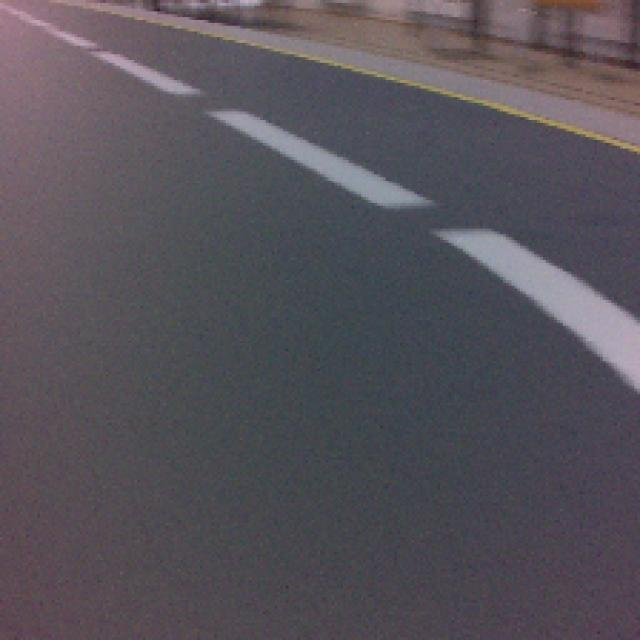Road: (0, 349, 640, 638)
